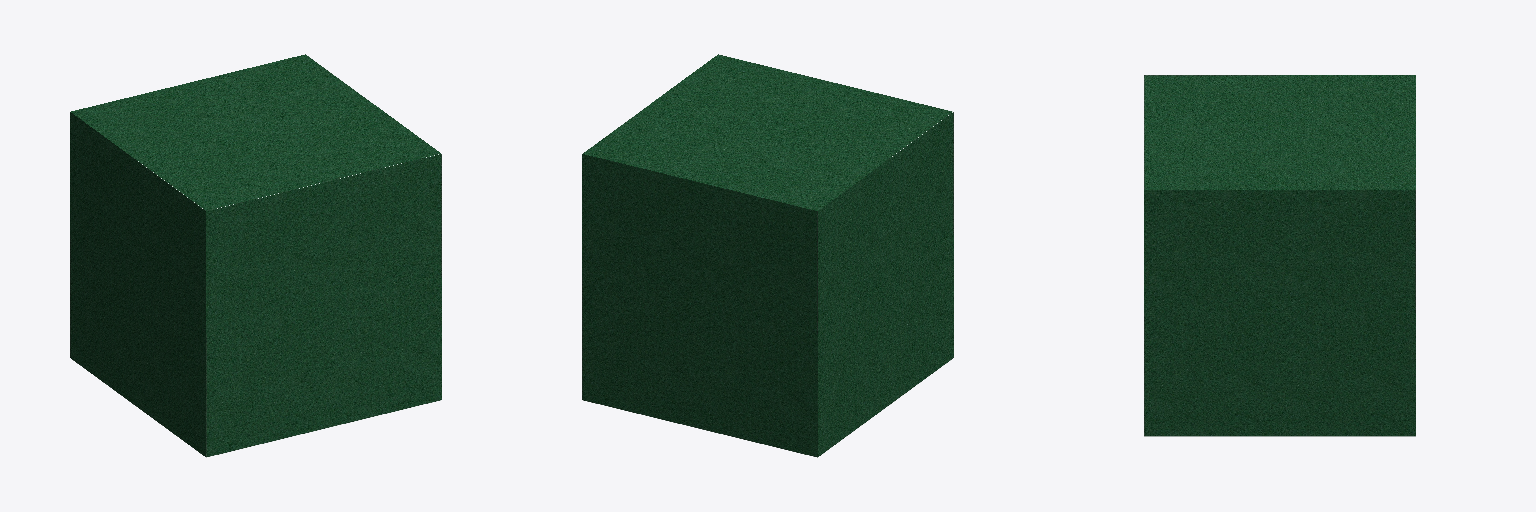
3 views of the same model, side by side, from view 1: azimuth 30°, elevation 25°; view 2: azimuth 150°, elevation 25°; view 3: azimuth 270°, elevation 25° (orthographic).
Visible parts, largest first — view 1: cube1; view 2: cube1; view 3: cube1.
Part boxes in pixels (bbox=[...]): cube1: bbox=[70, 54, 441, 457]; cube1: bbox=[582, 54, 953, 457]; cube1: bbox=[1144, 75, 1415, 436].
Bounding box in the file's own units: 2 × 2 × 2.
Materials: 2 (1 with a texture image).